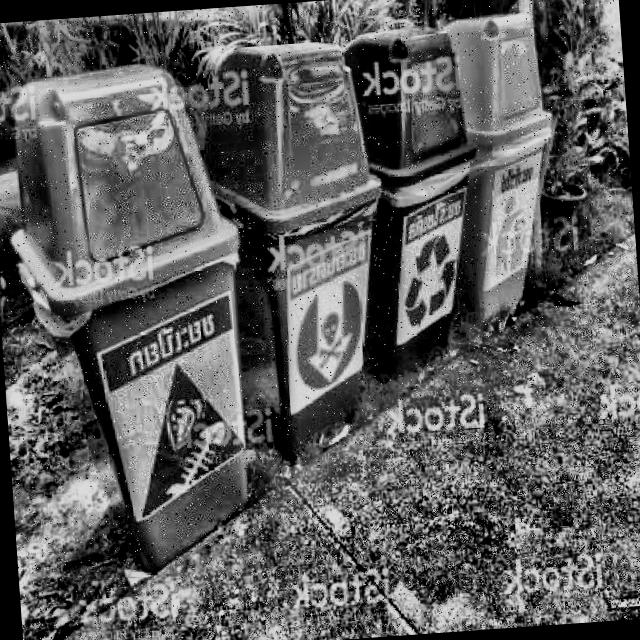Dustbin: (0, 47, 269, 591), (217, 28, 388, 480), (339, 16, 488, 402), (441, 5, 574, 334)
